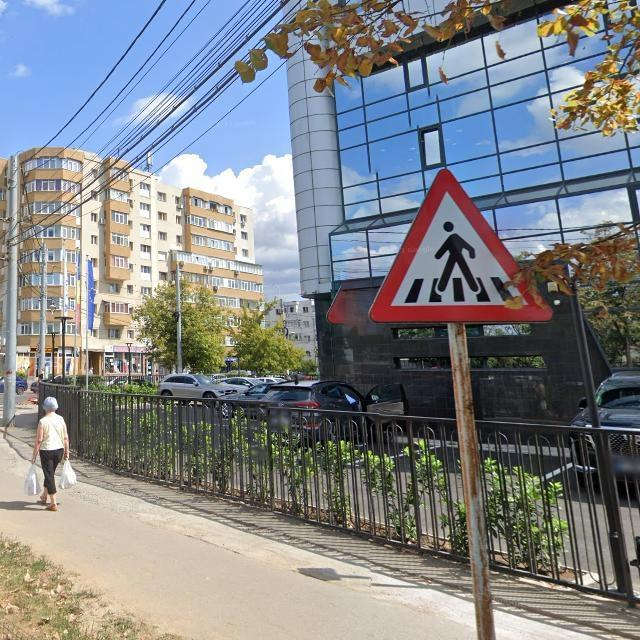warn_crosswalk: (368, 169, 556, 324)
